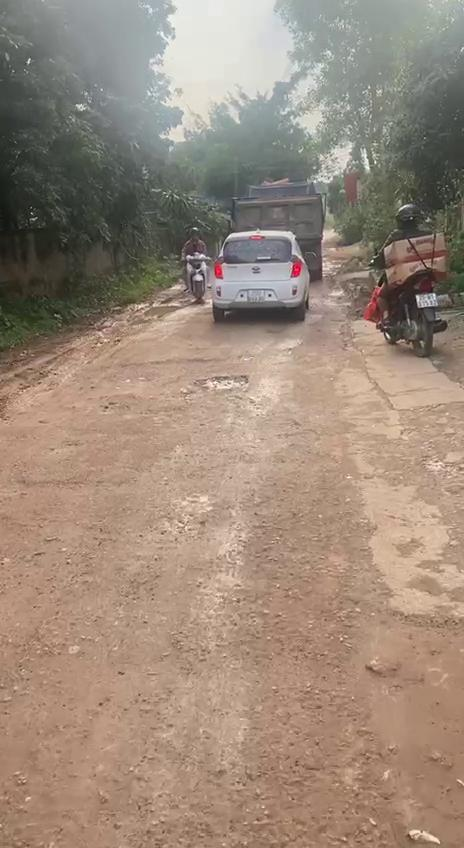pothole: (343, 604, 464, 848), (196, 372, 248, 396)
